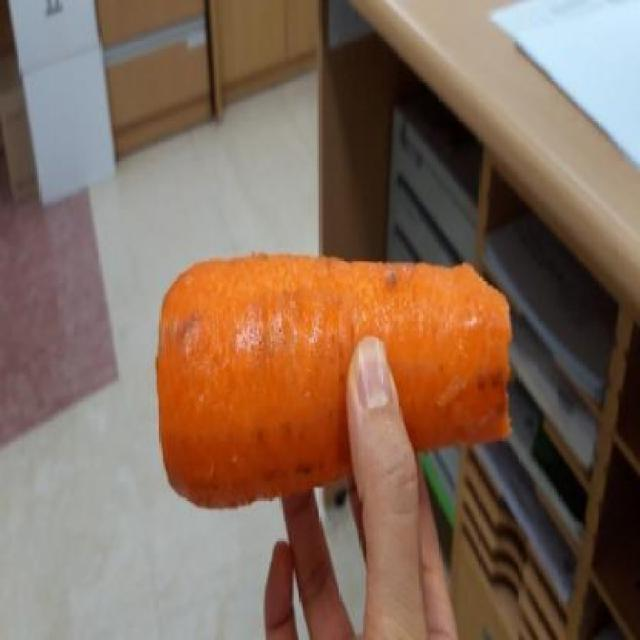Carrot: (158, 255, 510, 507)
